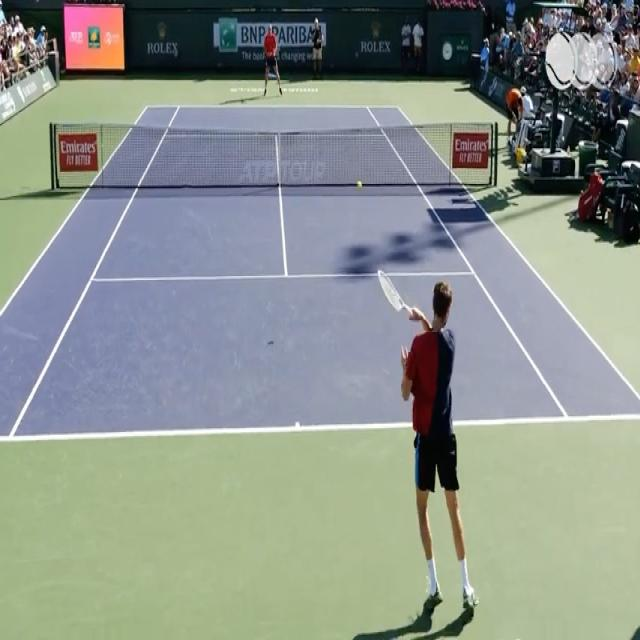forehand-stroke: (374, 264, 480, 627)
